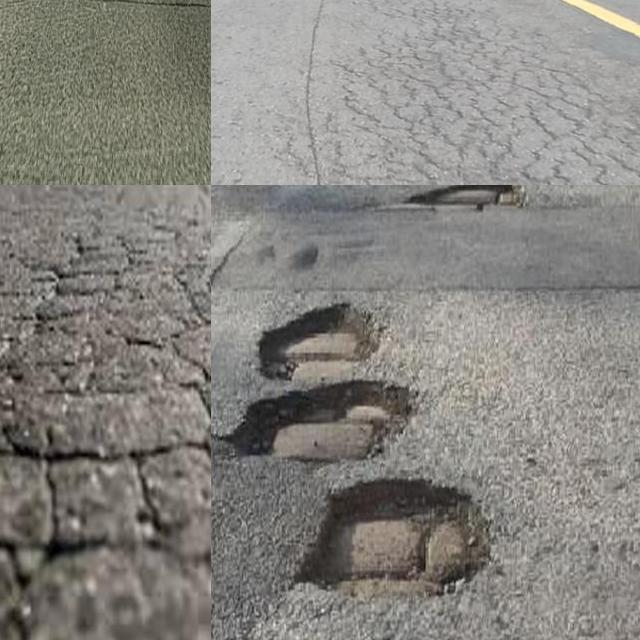Lubang: (307, 477, 492, 598), (223, 387, 412, 468), (251, 304, 393, 380), (408, 185, 521, 213)
Melintang: (6, 0, 211, 28)
Retak Buaya: (0, 185, 211, 640), (320, 0, 640, 185)
